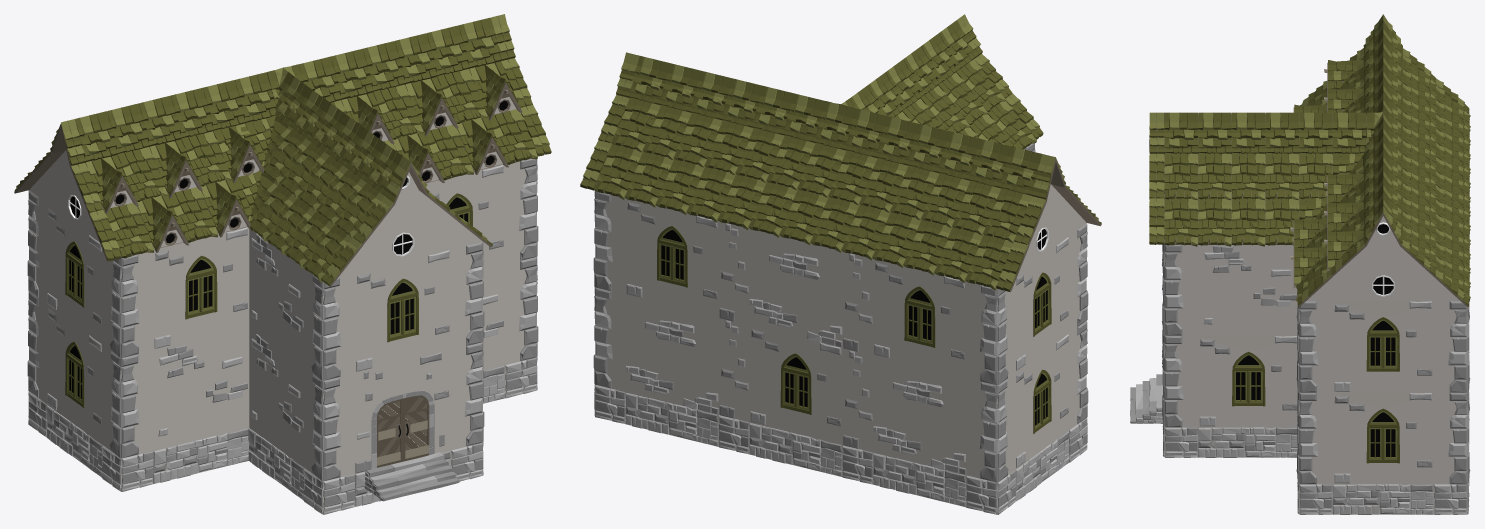
The model's file is House_18.glb.
The picture shows the model from 3 angles, left to right: view 1: azimuth 30°, elevation 25°; view 2: azimuth 150°, elevation 25°; view 3: azimuth 270°, elevation 25°; orthographic projection. The views are drawn at different scales.
Visible parts, largest first — view 1: WALL_01_5, WINDOW_02_RIG_20, WINDOW_02_RIG_1, DOOR_02_RIG_1, WINDOW_02_RIG_22, WALL_01_2, WINDOW_02_RIG_21, WALL_01_3, WINDOW_02_RIG_24, WALL_05_11, WALL_05_10, FOUNDATION_03_4 (+78 smaller); view 2: WALL_03_3, WALL_03_2, WINDOW_02_RIG_19, WINDOW_02_RIG_16, WALL_03_4, WINDOW_02_RIG_15, WINDOW_02_RIG_22, WINDOW_02_RIG_21, WALL_07_14, WALL_06_3, FOUNDATION_03_6, FOUNDATION_03_7 (+70 smaller); view 3: WINDOW_02_RIG_17, WINDOW_02_RIG_18, WINDOW_02_RIG_23, WALL_01_7, WALL_05_15, WALL_05_14, WALL_05_17, WALL_07_18, FOUNDATION_03_9, WALL_05_16, WALL_07_17, FOUNDATION_03_11 (+59 smaller).
Boxes of the visible parts, left/top/right/bottom form: WALL_01_5: left=153, top=327, right=249, bottom=450; WINDOW_02_RIG_20: left=153, top=227, right=249, bottom=350; WINDOW_02_RIG_1: left=355, top=249, right=450, bottom=372; DOOR_02_RIG_1: left=355, top=350, right=450, bottom=473; WINDOW_02_RIG_22: left=47, top=304, right=102, bottom=444; WALL_01_2: left=249, top=327, right=304, bottom=467; WINDOW_02_RIG_21: left=47, top=204, right=102, bottom=344; WALL_01_3: left=249, top=229, right=304, bottom=366; WINDOW_02_RIG_24: left=426, top=164, right=504, bottom=269; WALL_05_11: left=121, top=350, right=153, bottom=458; WALL_05_10: left=121, top=252, right=153, bottom=357; FOUNDATION_03_4: left=153, top=427, right=249, bottom=483; WALL_03_3: left=873, top=355, right=966, bottom=474; WALL_03_2: left=626, top=295, right=718, bottom=414; WINDOW_02_RIG_19: left=750, top=325, right=842, bottom=444; WINDOW_02_RIG_16: left=873, top=259, right=966, bottom=377; WALL_03_4: left=749, top=229, right=842, bottom=347; WINDOW_02_RIG_15: left=626, top=198, right=718, bottom=317; WINDOW_02_RIG_22: left=1015, top=333, right=1068, bottom=469; WINDOW_02_RIG_21: left=1015, top=236, right=1068, bottom=371; WALL_07_14: left=966, top=378, right=997, bottom=482; WALL_06_3: left=842, top=348, right=873, bottom=452; FOUNDATION_03_6: left=873, top=452, right=966, bottom=507; FOUNDATION_03_7: left=749, top=422, right=842, bottom=476; WINDOW_02_RIG_17: left=1333, top=392, right=1433, bottom=483; WINDOW_02_RIG_18: left=1333, top=301, right=1433, bottom=392; WINDOW_02_RIG_23: left=1198, top=335, right=1297, bottom=427; WALL_01_7: left=1198, top=245, right=1297, bottom=335; WALL_05_15: left=1164, top=335, right=1198, bottom=427; WALL_05_14: left=1164, top=244, right=1198, bottom=335; WALL_05_17: left=1299, top=392, right=1332, bottom=484; WALL_07_18: left=1434, top=392, right=1467, bottom=484; FOUNDATION_03_9: left=1333, top=484, right=1433, bottom=514; WALL_05_16: left=1299, top=301, right=1332, bottom=392; WALL_07_17: left=1434, top=301, right=1467, bottom=392; FOUNDATION_03_11: left=1198, top=427, right=1297, bottom=457.
Size of the model in its own units: 13.91 by 10.16 by 10.13.
1 material, 1 textured.
